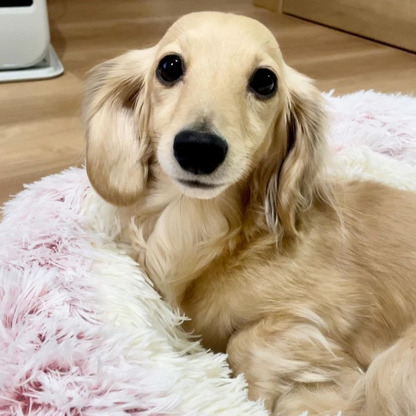dachshund: (76, 6, 345, 310)
